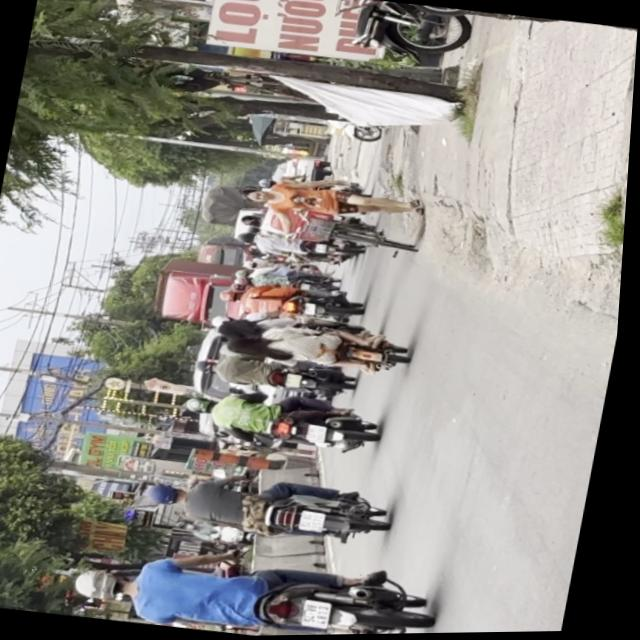helmet: (77, 566, 142, 605), (151, 480, 196, 508), (186, 396, 219, 416)
licenseplate: (70, 532, 451, 639), (142, 462, 402, 555), (178, 381, 388, 460), (206, 307, 420, 381)
motorcyclist: (217, 315, 260, 341), (225, 334, 269, 359)
nohelmet: (306, 599, 338, 630), (303, 509, 333, 533), (313, 424, 334, 443)
